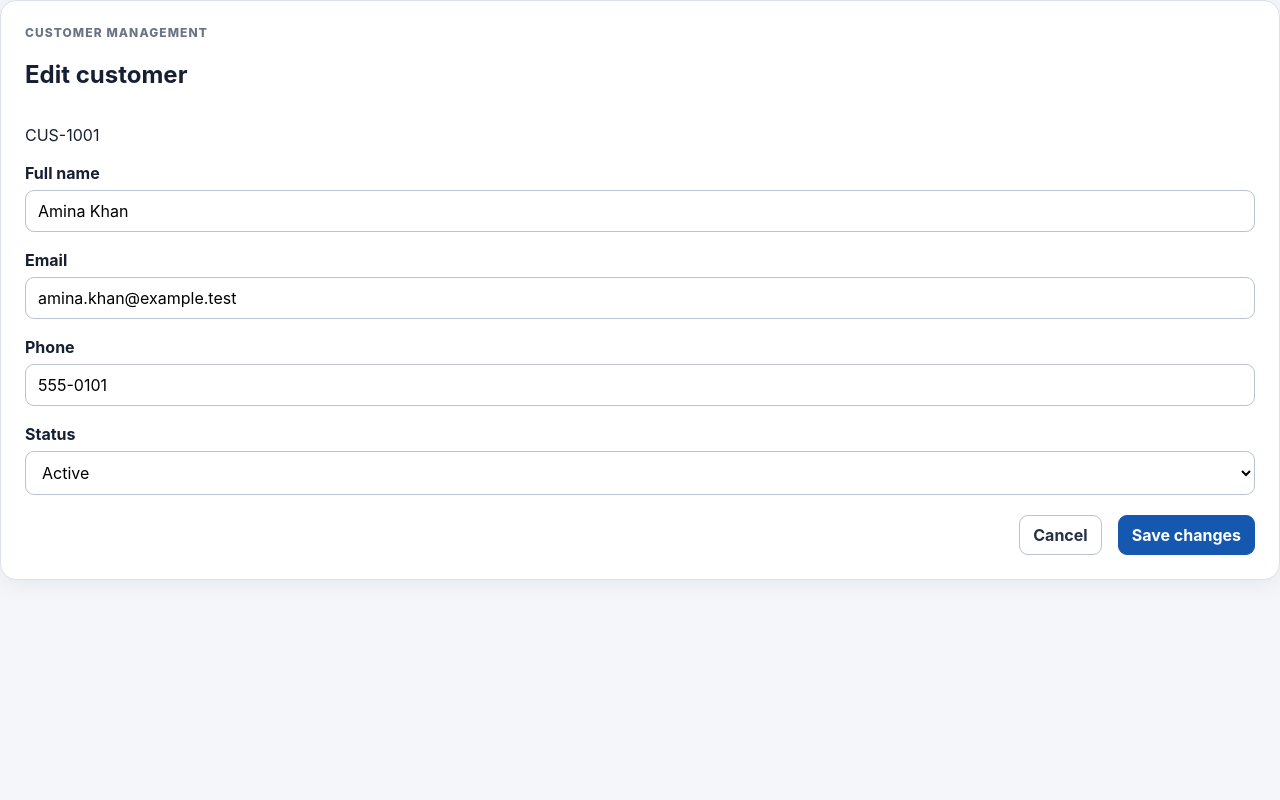
Test: CustomerEditForm › rejects an invalid email
Replace the text in the field labelled "Email" with "bad-email" at (640, 298), box [25,277,1255,319]
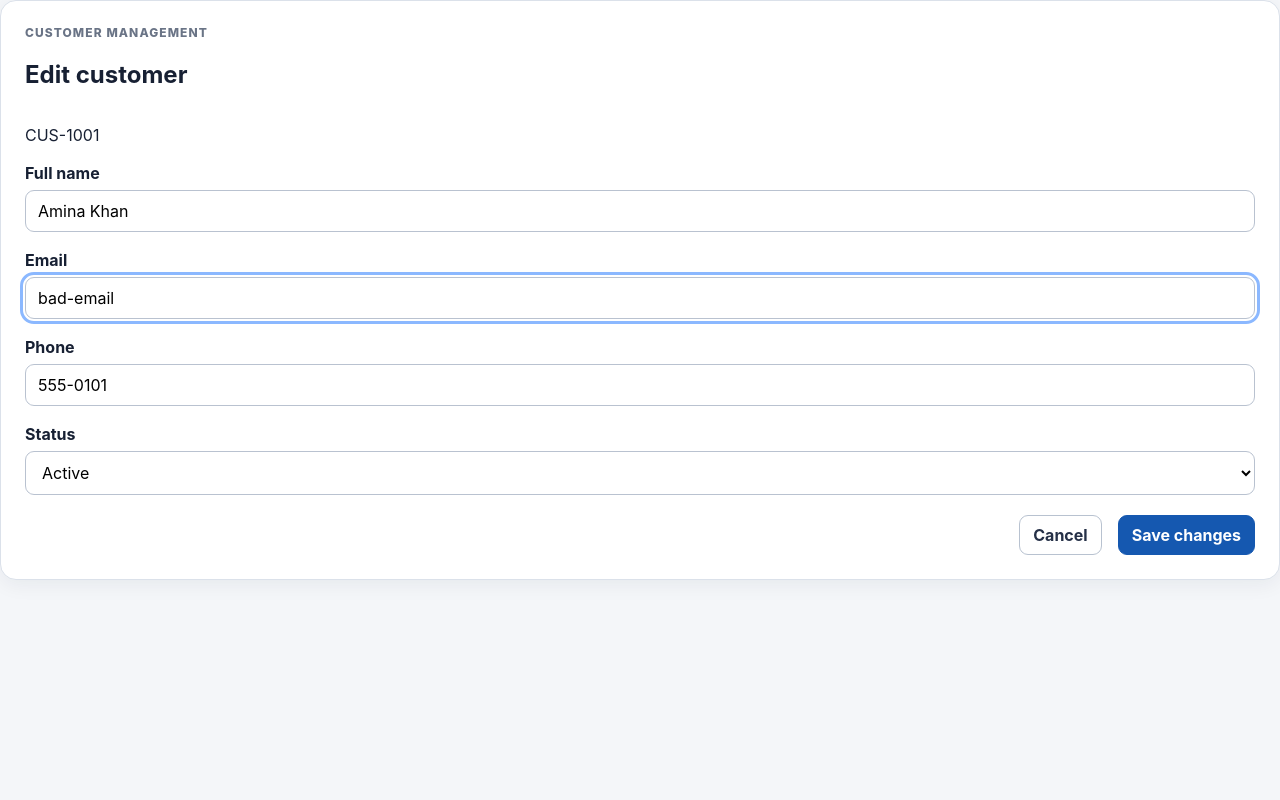
Click the button "Save changes".
click(1186, 535)  # box [1118,515,1255,555]
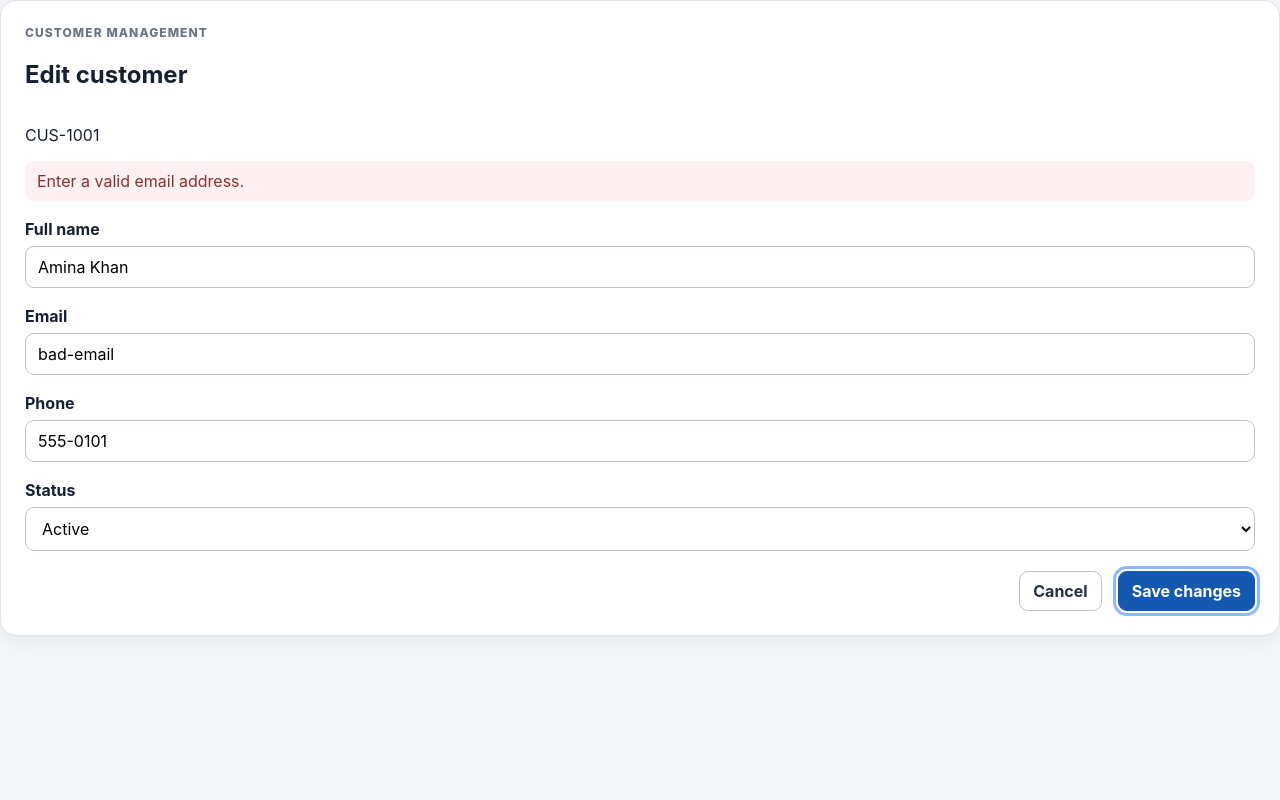
Now the message reads "Enter a valid email address.", box [37,171,244,191]
